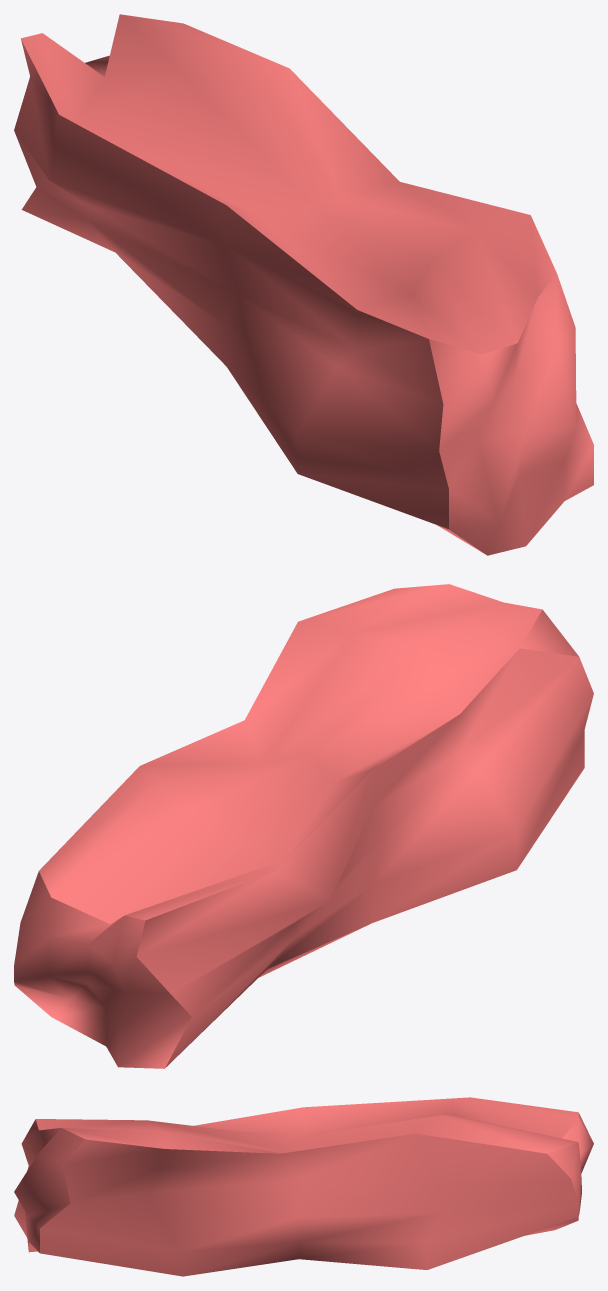
Rendered from Methamphetamine.FBX.
The picture shows the model from 3 angles, top to bottom: view 1: azimuth 30°, elevation 25°; view 2: azimuth 150°, elevation 25°; view 3: azimuth 270°, elevation 25°; orthographic projection. The views are drawn at different scales.
Visible parts, largest first — view 1: Box001; view 2: Box001; view 3: Box001.
Part boxes in pixels (x1=…): Box001: x1=14, y1=14, x2=593, y2=555; Box001: x1=14, y1=584, x2=593, y2=1068; Box001: x1=14, y1=1097, x2=593, y2=1276.
Bounding box in the file's own units: 1.79 × 1.49 × 5.27.
